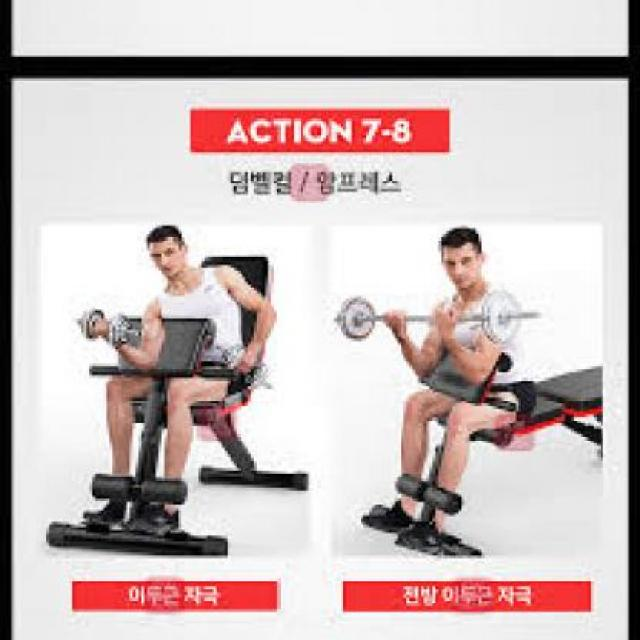arm curl machine: (42, 226, 309, 559)
